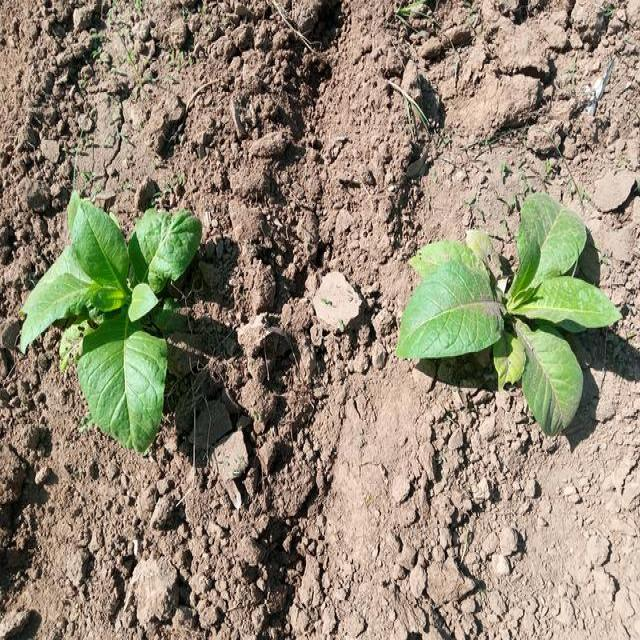crop: (390, 196, 610, 437), (33, 180, 193, 448)
